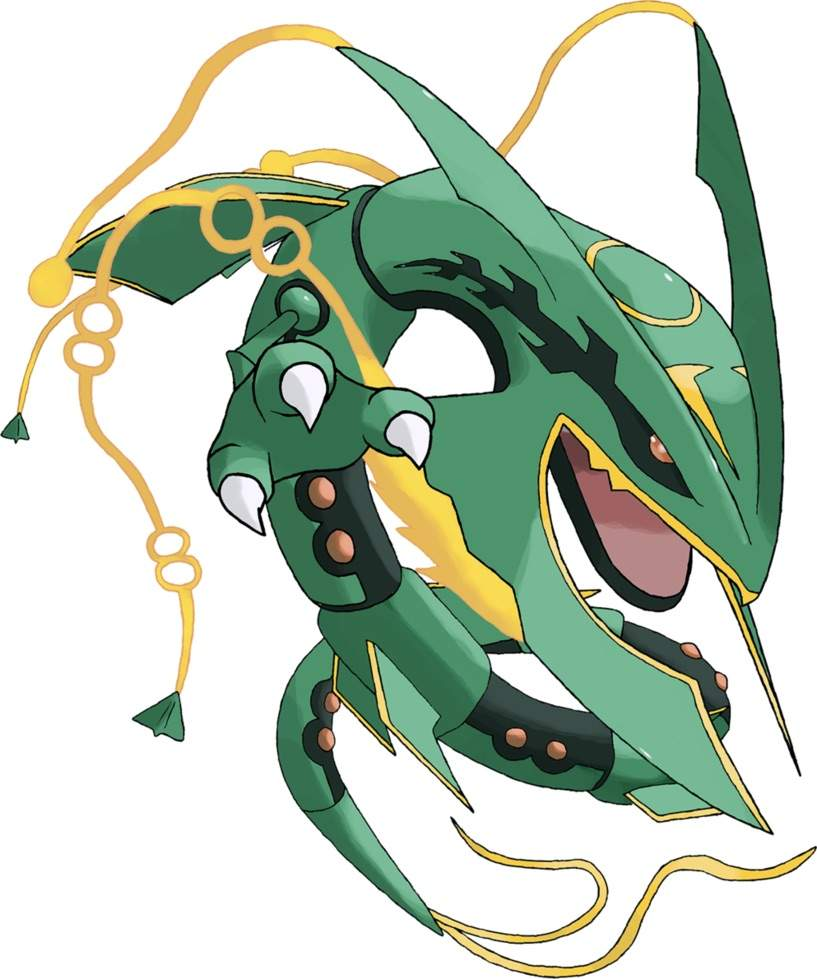rayquaza: (42, 53, 797, 907)
